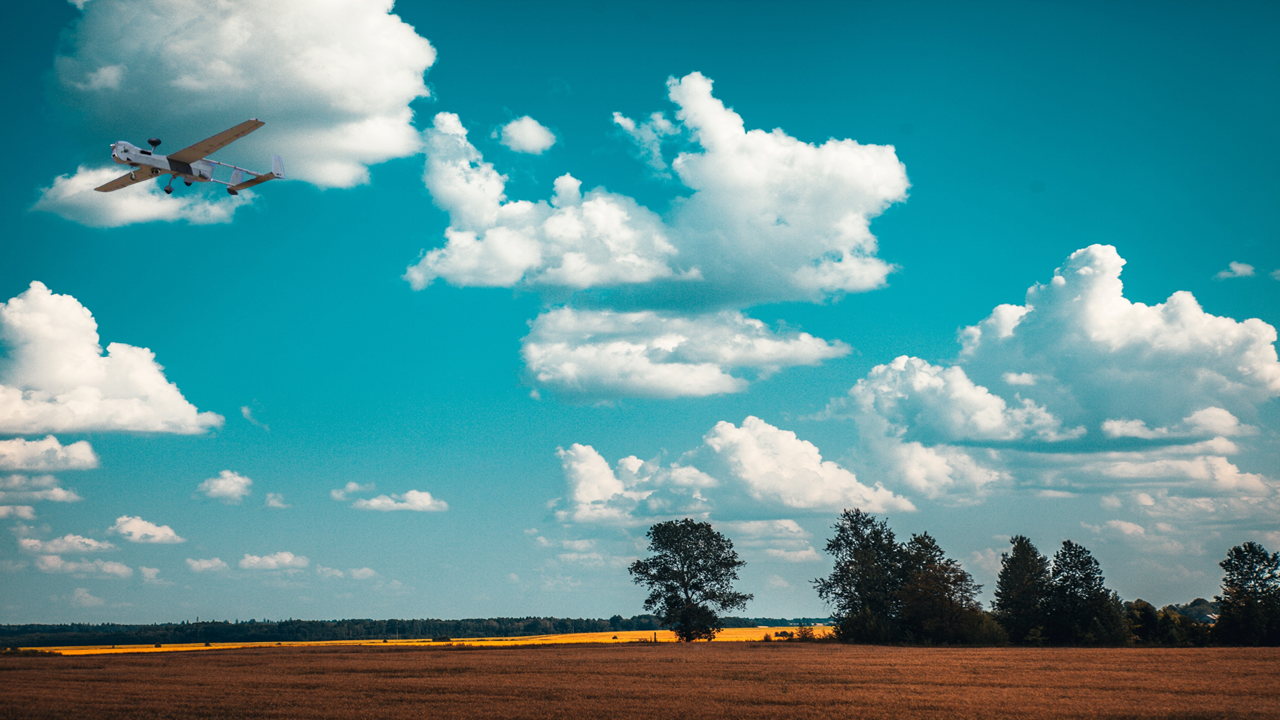military drone: (93, 118, 284, 195)
